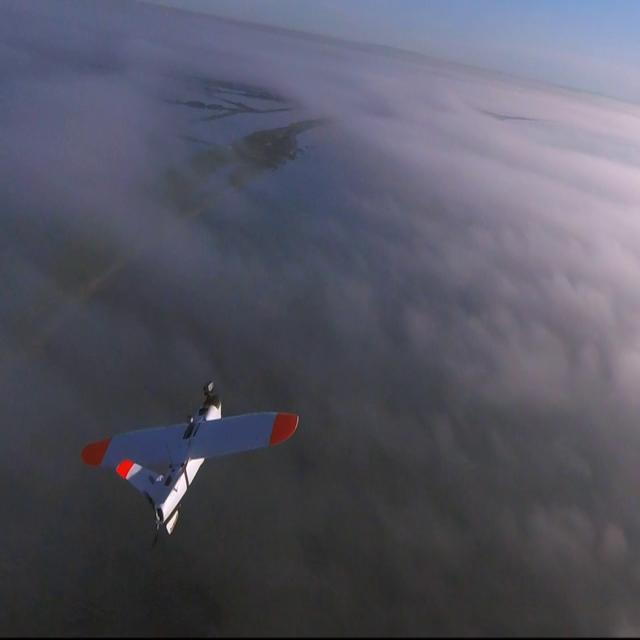iha: (80, 373, 302, 527)
